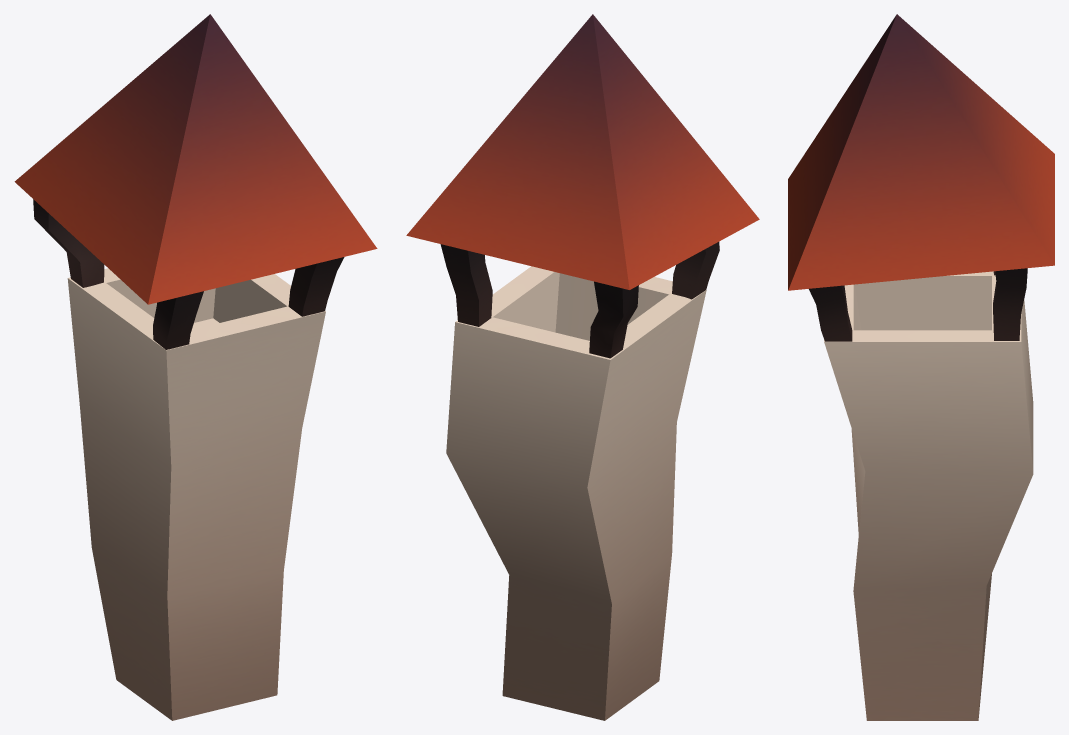
Rendered from Chimney02.fbx.
The picture shows the model from 3 angles, left to right: view 1: azimuth 30°, elevation 25°; view 2: azimuth 150°, elevation 25°; view 3: azimuth 270°, elevation 25°; orthographic projection. The views are drawn at different scales.
Visible parts, largest first — view 1: Chimney02; view 2: Chimney02; view 3: Chimney02.
Part boxes in pixels (x1,y1,x2,y2): Chimney02: [14, 14, 377, 720]; Chimney02: [406, 14, 759, 720]; Chimney02: [788, 14, 1054, 720].
Bounding box in the file's own units: 129 × 366 × 130.
Materials: 1 (1 with a texture image).
